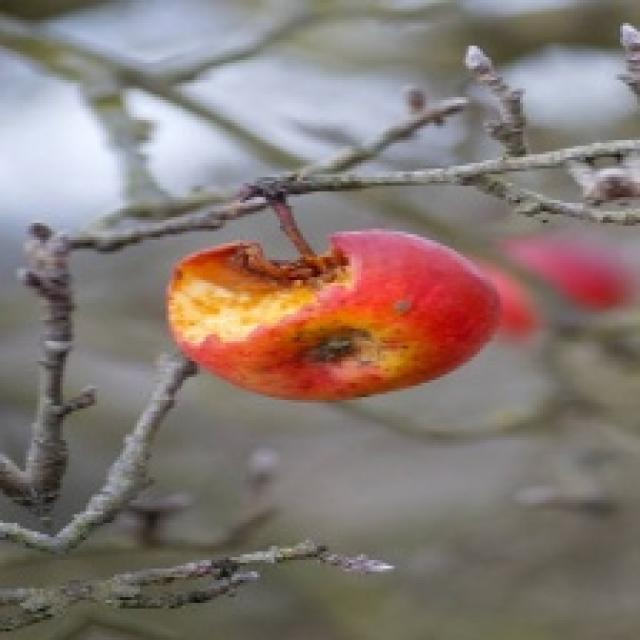rotten_apple: (175, 238, 495, 392)
